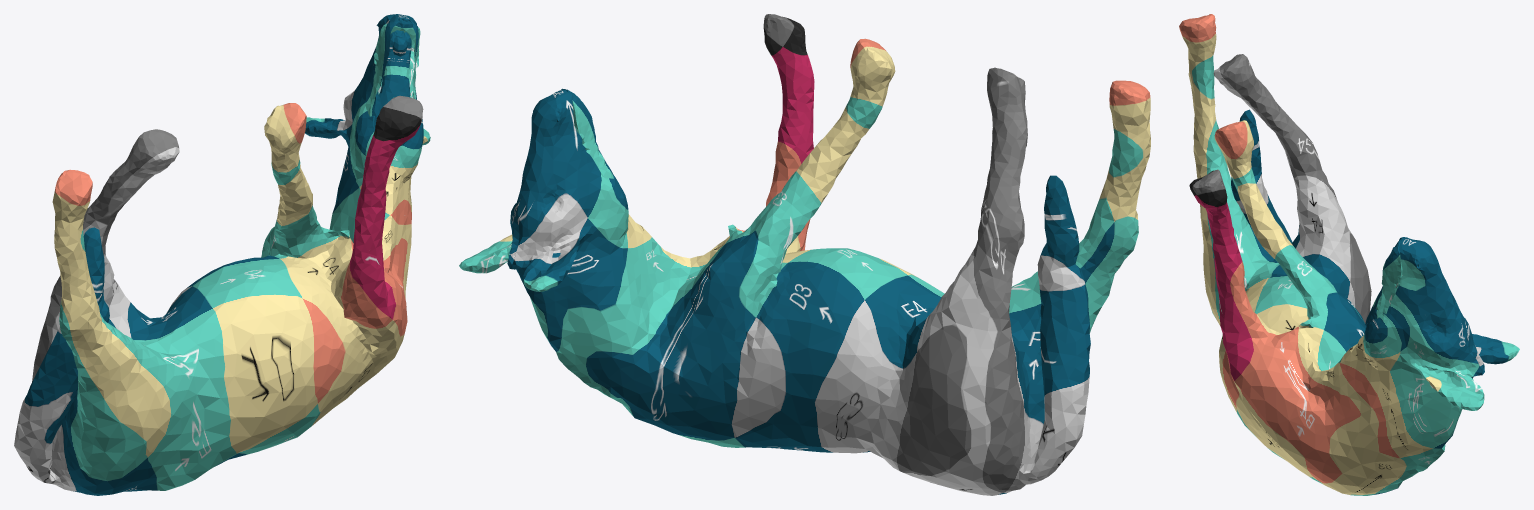
File: cougar_04-horse_05.obj
3 views of the same model, side by side, from view 1: azimuth 30°, elevation 25°; view 2: azimuth 150°, elevation 25°; view 3: azimuth 270°, elevation 25° (orthographic). The views are drawn at different scales.
Visible parts, largest first — view 1: cougar_04-horse_05_export; view 2: cougar_04-horse_05_export; view 3: cougar_04-horse_05_export.
Part boxes in pixels (left/top/right/bottom): cougar_04-horse_05_export: left=14, top=14, right=430, bottom=495; cougar_04-horse_05_export: left=459, top=14, right=1150, bottom=495; cougar_04-horse_05_export: left=1179, top=14, right=1519, bottom=495.
Size of the model in its own units: 0.8319 by 0.5827 by 0.5187.
